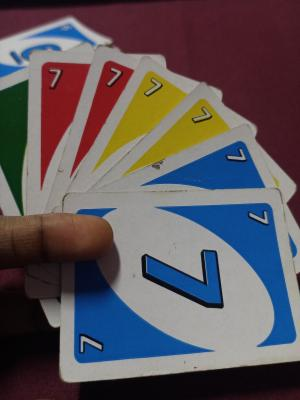blue: (71, 208, 294, 355), (139, 160, 260, 190)
num_7: (76, 329, 107, 361), (44, 66, 74, 92), (245, 207, 274, 229), (188, 105, 214, 127), (143, 74, 164, 101), (103, 64, 124, 91)
red: (38, 63, 65, 161), (97, 65, 111, 132)
